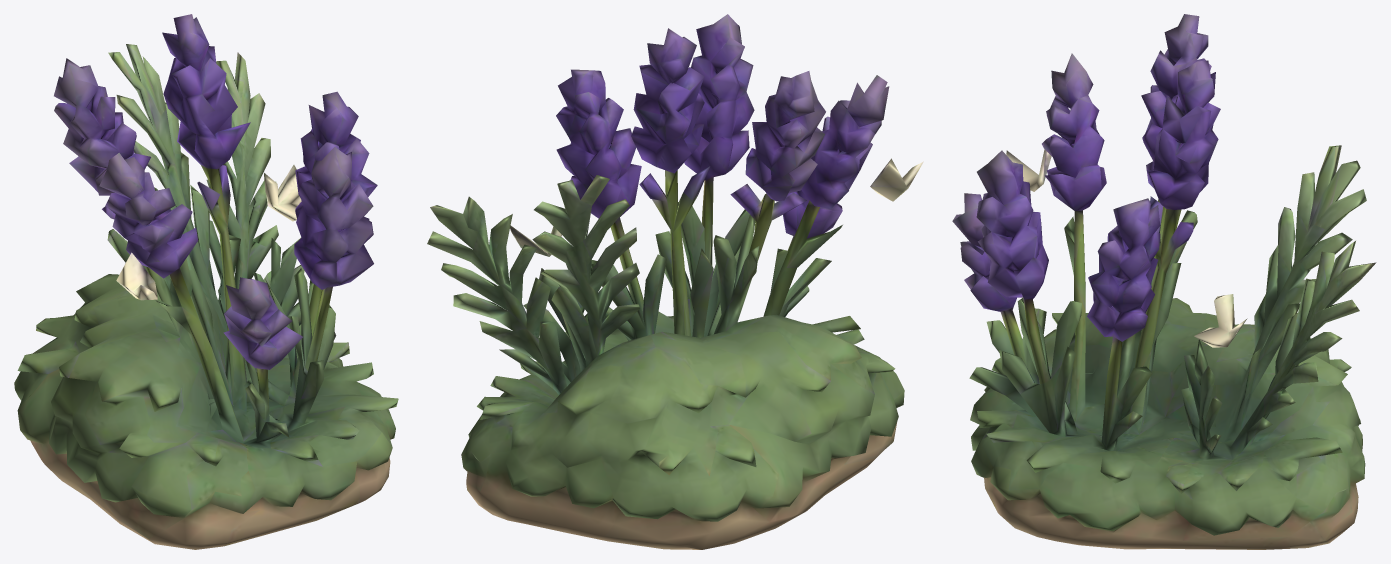
The model's file is lavender.glb.
3 renders of one model, left to right at view 1: azimuth 30°, elevation 25°; view 2: azimuth 150°, elevation 25°; view 3: azimuth 270°, elevation 25°, orthographic. The views are drawn at different scales.
Visible parts, largest first — view 1: tripo_node_e3da69d7-0fd4-4d8c-bc9f-944685ddbc15; view 2: tripo_node_e3da69d7-0fd4-4d8c-bc9f-944685ddbc15; view 3: tripo_node_e3da69d7-0fd4-4d8c-bc9f-944685ddbc15.
Boxes of the visible parts, x1,y1,x2,y2 form: tripo_node_e3da69d7-0fd4-4d8c-bc9f-944685ddbc15: (14,14,398,549); tripo_node_e3da69d7-0fd4-4d8c-bc9f-944685ddbc15: (427,14,923,549); tripo_node_e3da69d7-0fd4-4d8c-bc9f-944685ddbc15: (952,14,1376,549).
Size of the model in its own units: 0.7377 by 1 by 0.8942.
Materials: 1 (1 with a texture image).
